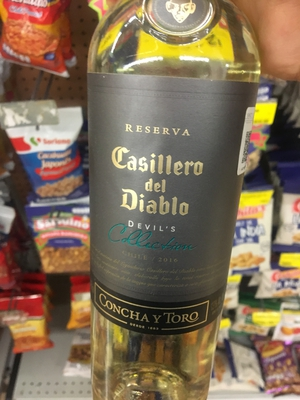casillero del diablo devils collection verde: (78, 18, 248, 400)
